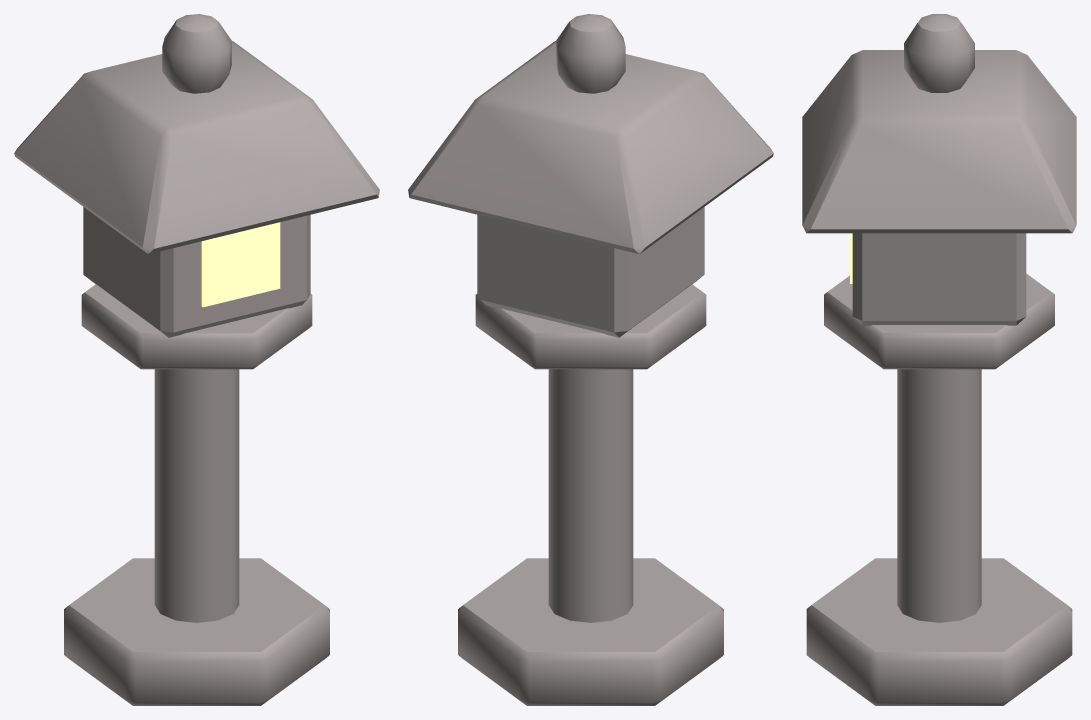
Rendered from ENV_Ember_Obelisk_I.fbx.
3 renders of one model, left to right at view 1: azimuth 30°, elevation 25°; view 2: azimuth 150°, elevation 25°; view 3: azimuth 270°, elevation 25°, orthographic.
Visible parts, largest first — view 1: ENV_Ember_Obelisk_I; view 2: ENV_Ember_Obelisk_I; view 3: ENV_Ember_Obelisk_I.
Part boxes in pixels (left/top/right/bottom): ENV_Ember_Obelisk_I: left=14, top=14, right=379, bottom=705; ENV_Ember_Obelisk_I: left=408, top=14, right=773, bottom=705; ENV_Ember_Obelisk_I: left=802, top=14, right=1076, bottom=705.
Size of the model in its own units: 1.1 by 2.86 by 1.1.
